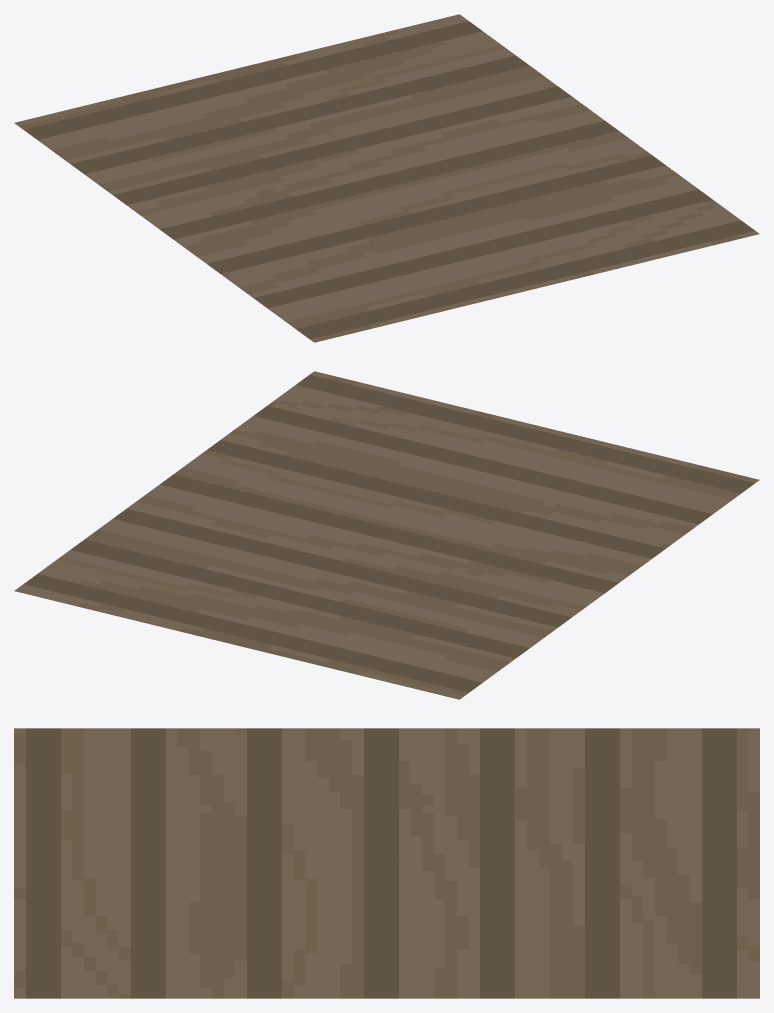
Rendered from kd_stage_135b75_4_16_bounded_piece_17.glb.
The picture shows the model from 3 angles, top to bottom: view 1: azimuth 30°, elevation 25°; view 2: azimuth 150°, elevation 25°; view 3: azimuth 270°, elevation 25°; orthographic projection. The views are drawn at different scales.
Visible parts, largest first — view 1: kd_stage_135b75_4_16_bounded_piece_17; view 2: kd_stage_135b75_4_16_bounded_piece_17; view 3: kd_stage_135b75_4_16_bounded_piece_17.
Boxes of the visible parts, x1,y1,x2,y2 form: kd_stage_135b75_4_16_bounded_piece_17: [14, 14, 759, 342]; kd_stage_135b75_4_16_bounded_piece_17: [14, 371, 759, 699]; kd_stage_135b75_4_16_bounded_piece_17: [14, 728, 759, 998].
Bounding box in the file's own units: 0.0995 × 0 × 0.1162.
1 material, 1 textured.
